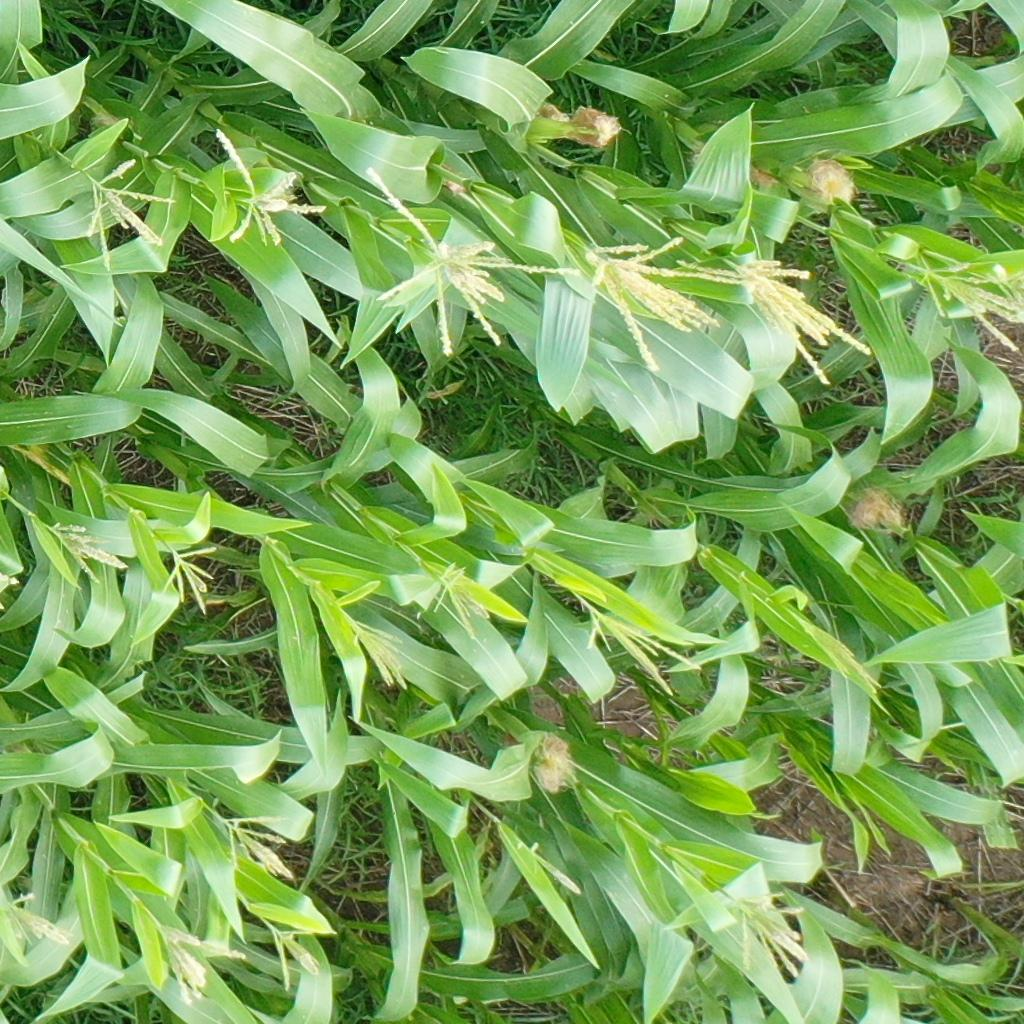Tassel: (365, 169, 583, 360), (676, 252, 875, 387), (580, 234, 723, 373), (207, 124, 329, 247), (581, 598, 702, 698), (916, 256, 1023, 353), (84, 158, 175, 272), (156, 922, 247, 1005), (729, 892, 809, 979), (805, 620, 883, 692), (220, 812, 295, 882), (47, 522, 130, 585), (430, 559, 491, 639), (348, 616, 411, 691), (269, 925, 335, 991), (3, 892, 74, 949), (517, 835, 582, 895), (163, 547, 217, 614), (990, 268, 1024, 311)
